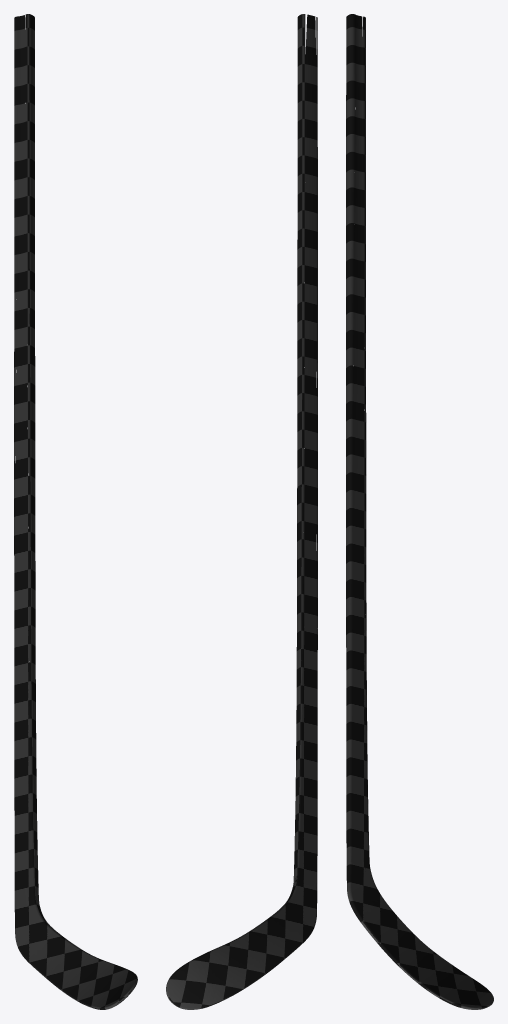
Rendered from P28-1-4-ST-LIE6_0.glb.
3 renders of one model, left to right at view 1: azimuth 30°, elevation 25°; view 2: azimuth 150°, elevation 25°; view 3: azimuth 330°, elevation 25°, orthographic. The views are drawn at different scales.
Visible parts, largest first — view 1: geometry_0; view 2: geometry_0; view 3: geometry_0.
Boxes of the visible parts, left/top/right/bottom form: geometry_0: left=14, top=14, right=137, bottom=1009; geometry_0: left=166, top=14, right=317, bottom=1009; geometry_0: left=346, top=14, right=493, bottom=1009.
Size of the model in its own units: 230 by 1650 by 65.63.
1 material, 1 textured.
